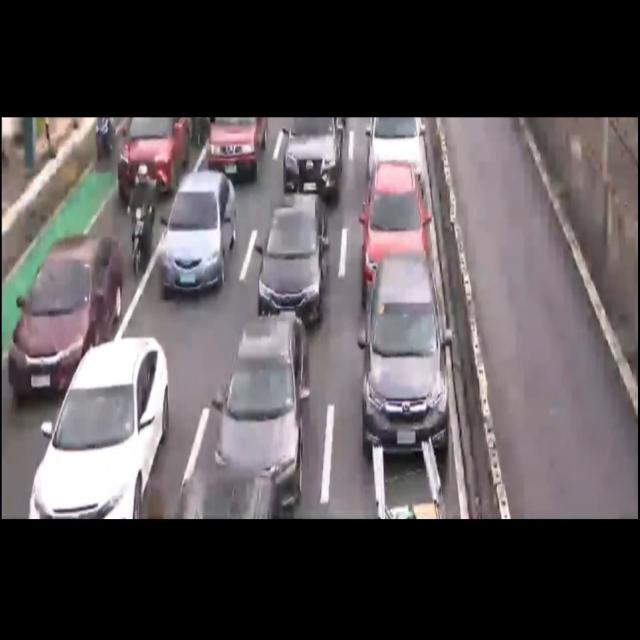Motorcycle: (127, 160, 155, 277)
SUV: (355, 261, 449, 455), (361, 156, 438, 305), (110, 114, 192, 194), (281, 116, 347, 202)
Sedan: (25, 333, 167, 517), (218, 299, 307, 502), (8, 234, 122, 390), (254, 190, 334, 329), (161, 170, 236, 292)
